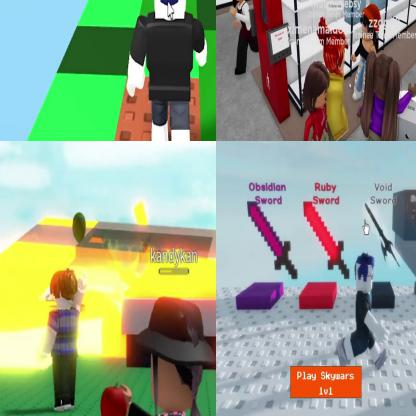Roblox-Avatar: (93, 296, 216, 416), (127, 1, 209, 141), (42, 268, 89, 413), (338, 253, 391, 371), (358, 51, 416, 141), (317, 17, 350, 141), (352, 5, 382, 103), (302, 61, 334, 141), (230, 1, 261, 77)
